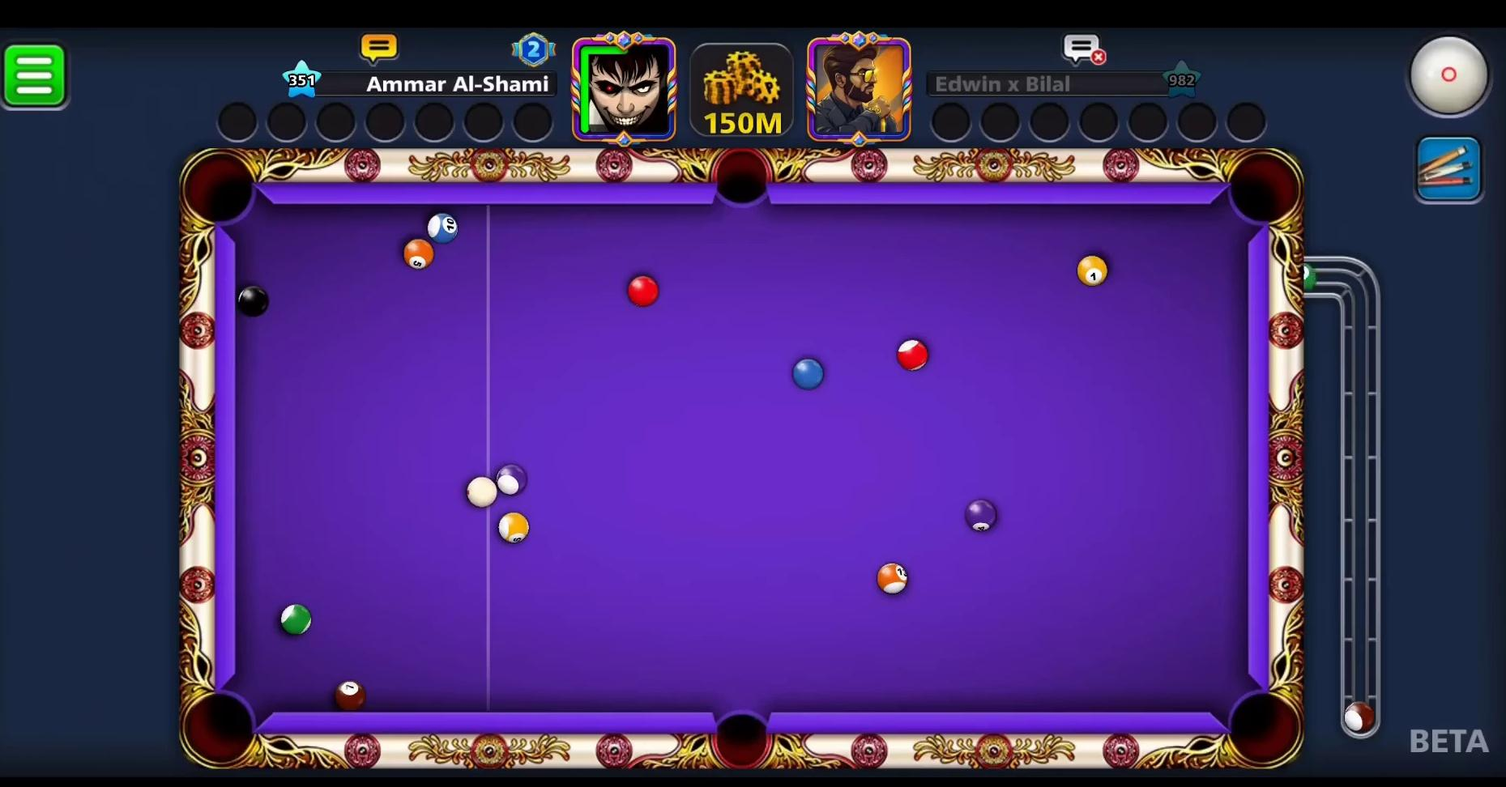Ball: (413, 210, 469, 253), (225, 280, 278, 322), (488, 507, 536, 551), (872, 551, 913, 602), (487, 459, 535, 500), (323, 675, 374, 713), (959, 493, 1002, 538), (398, 233, 441, 275), (274, 600, 320, 639), (893, 334, 935, 376), (1072, 252, 1116, 292), (620, 272, 664, 312), (789, 354, 828, 392)
Hole: (169, 679, 271, 775), (1217, 138, 1306, 236), (1215, 683, 1308, 776), (176, 141, 268, 233), (702, 141, 783, 224), (703, 695, 782, 777)
Play_Area: (235, 204, 1243, 713)
Spin: (1401, 27, 1504, 129)
White: (457, 472, 504, 511)
